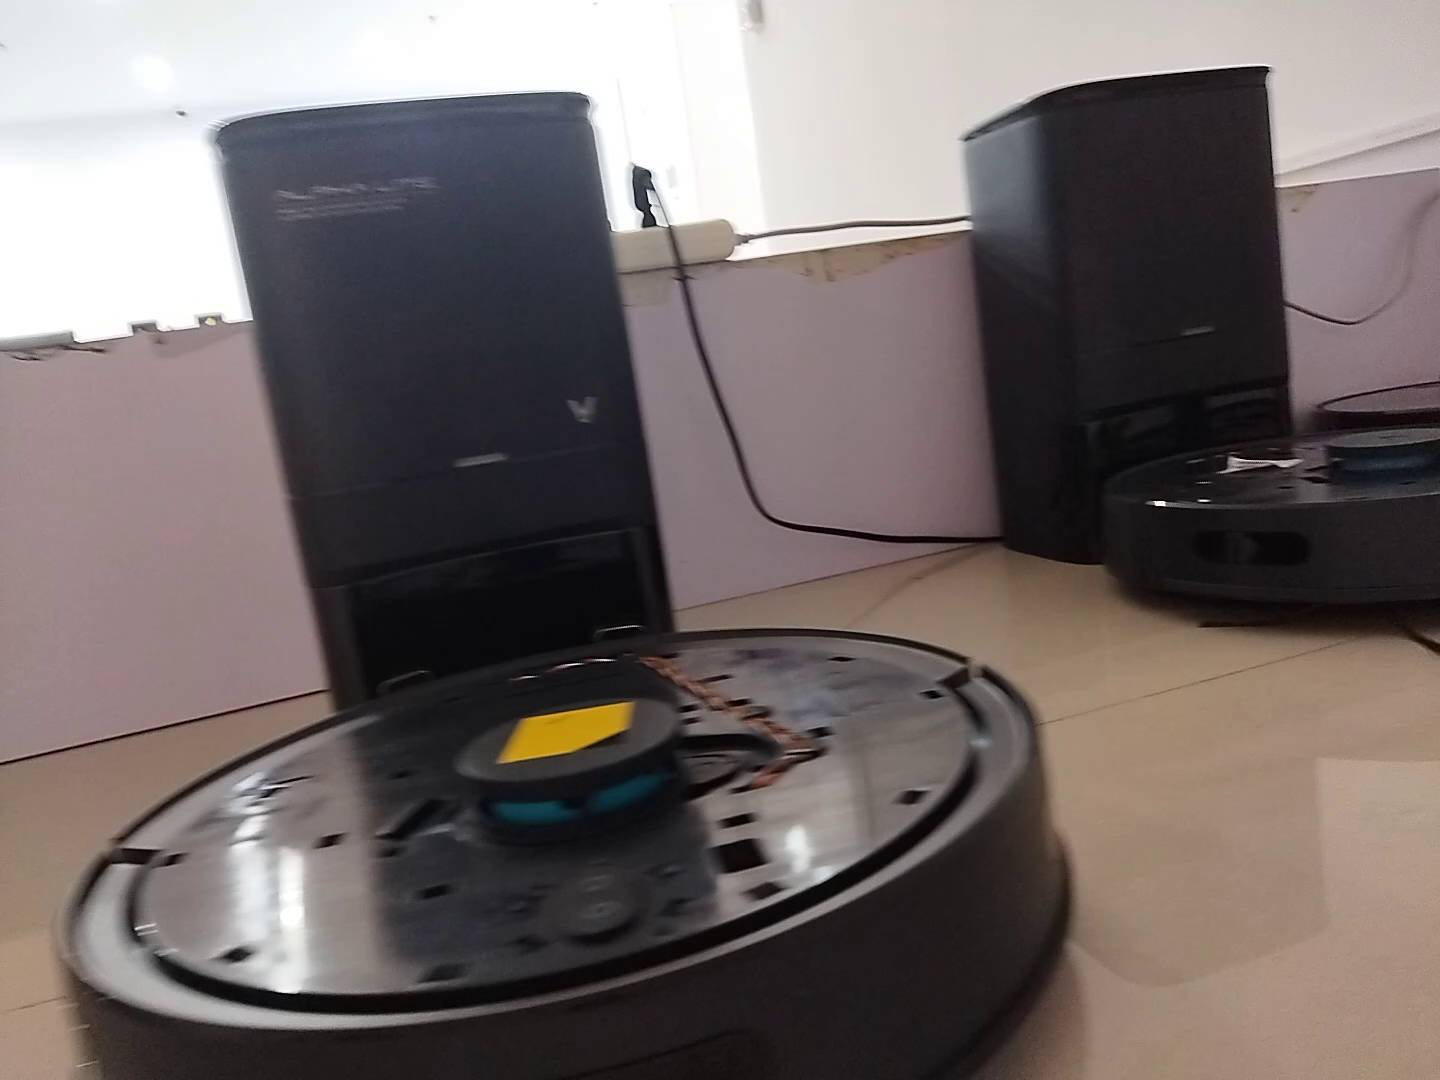dust collecting barrel: (210, 92, 676, 719), (962, 65, 1298, 572)
